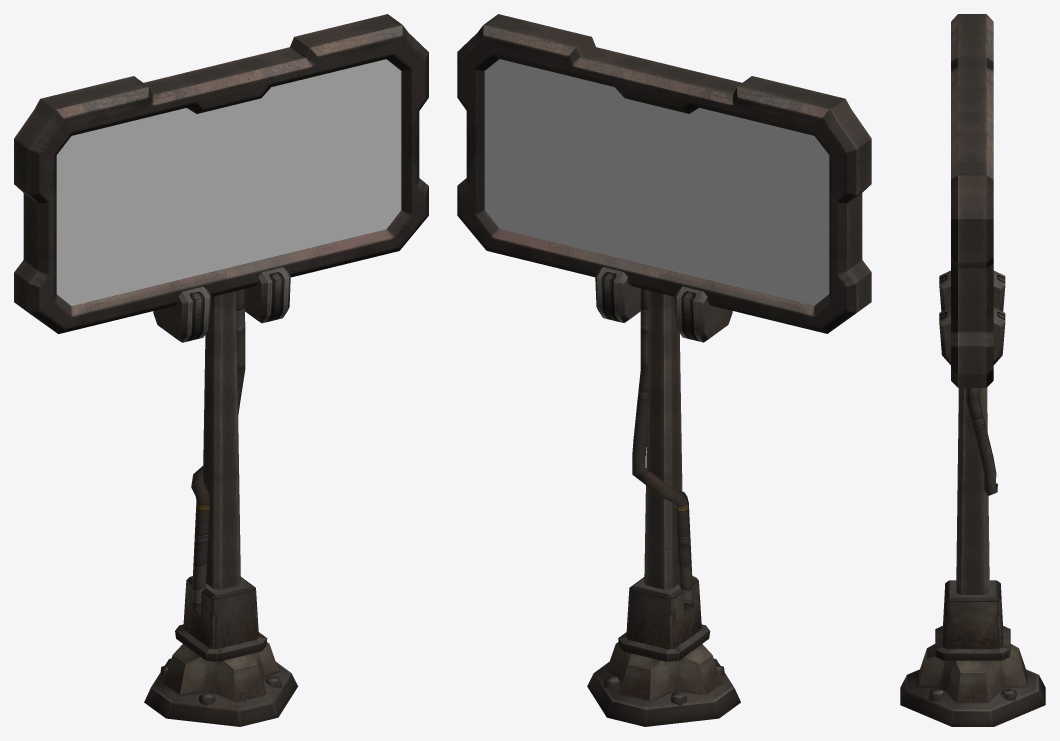
File: billboard_00.fbx
The picture shows the model from 3 angles, left to right: view 1: azimuth 30°, elevation 25°; view 2: azimuth 150°, elevation 25°; view 3: azimuth 270°, elevation 25°; orthographic projection. The views are drawn at different scales.
Parts seen in each view (by area): view 1: Geoset_0, Geoset_1; view 2: Geoset_0, Geoset_1; view 3: Geoset_0.
Boxes of the visible parts, <box> form: Geoset_0: <box>14,14,428,726</box>; Geoset_1: <box>56,59,401,305</box>; Geoset_0: <box>457,14,871,726</box>; Geoset_1: <box>484,59,829,305</box>; Geoset_0: <box>900,14,1045,726</box>.
Size of the model in its own units: 2.26 by 3.42 by 0.7471.
Materials: 1 (1 with a texture image).
